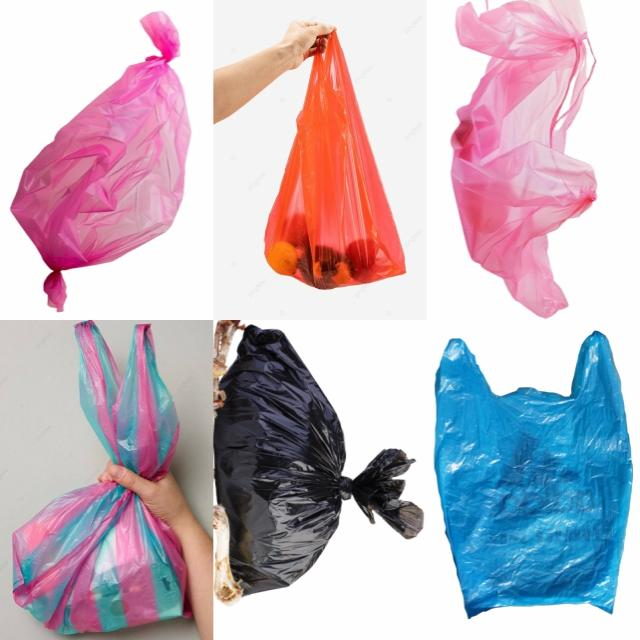Single-layer Plastic: (214, 325, 422, 594), (435, 332, 632, 616), (11, 13, 190, 310), (451, 0, 596, 317), (265, 33, 405, 289), (12, 483, 190, 634), (75, 321, 179, 480)
